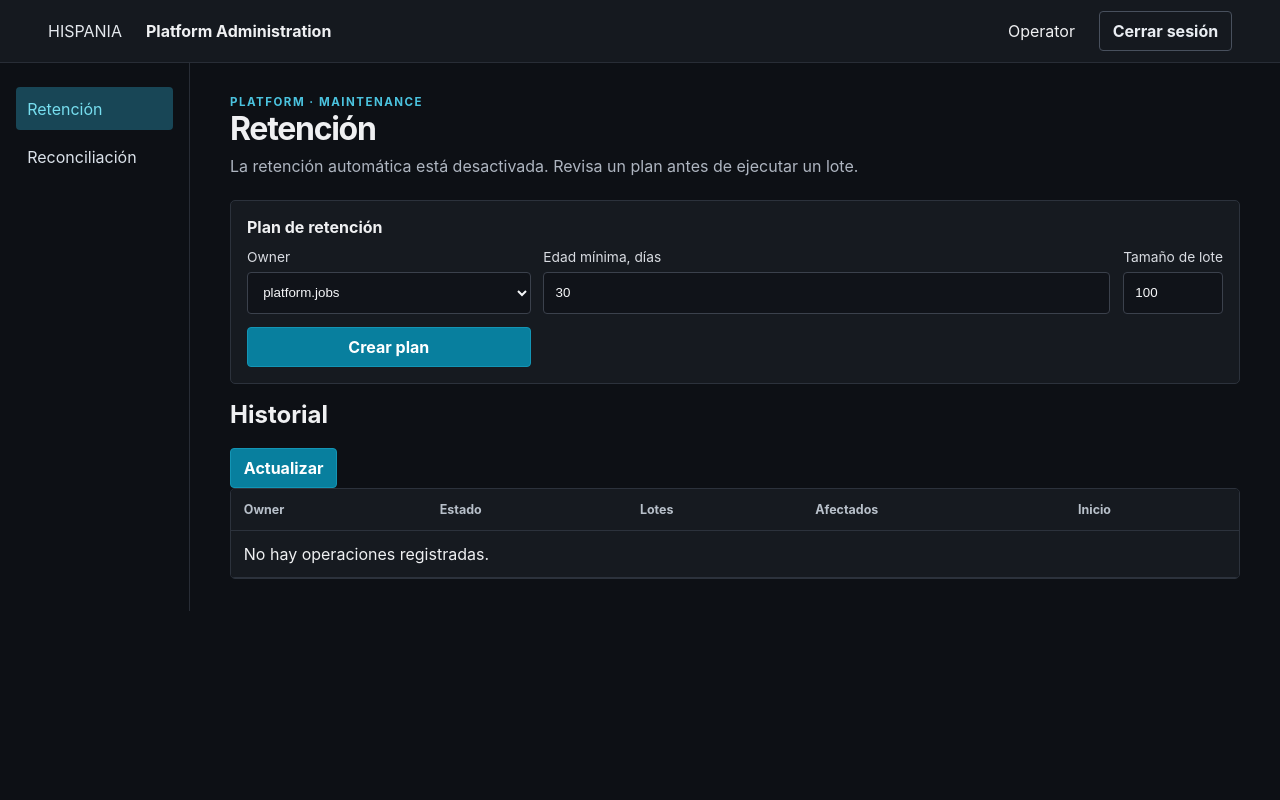
shows a retention plan without execute controls in modern
This screenshot has width=1280, height=800.
expect the heading "Retención" is shown: met, box [230, 109, 376, 148]
Click the button "Crear plan": (389, 346) [247, 326, 530, 366]
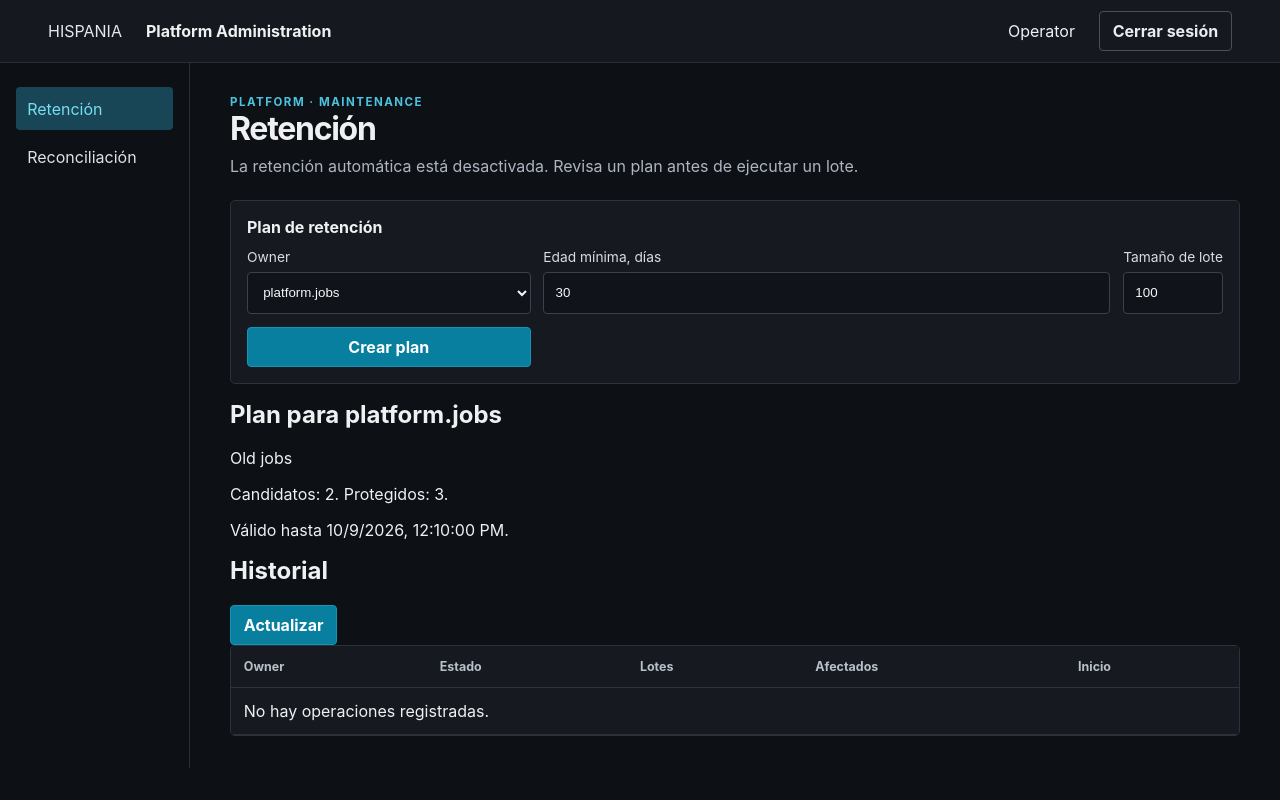
expect the text "Candidatos: 2. Protegidos: 3." is shown: met, box [230, 484, 448, 504]
